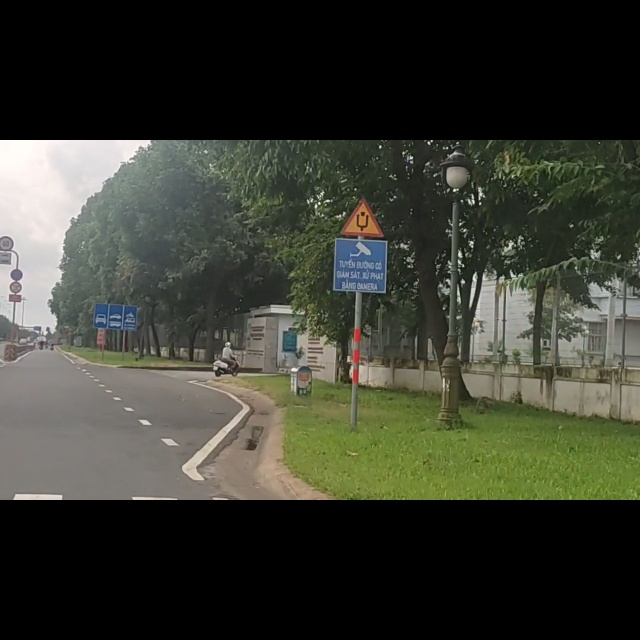bien_chi_dan: (338, 101, 386, 177), (93, 287, 138, 339)
